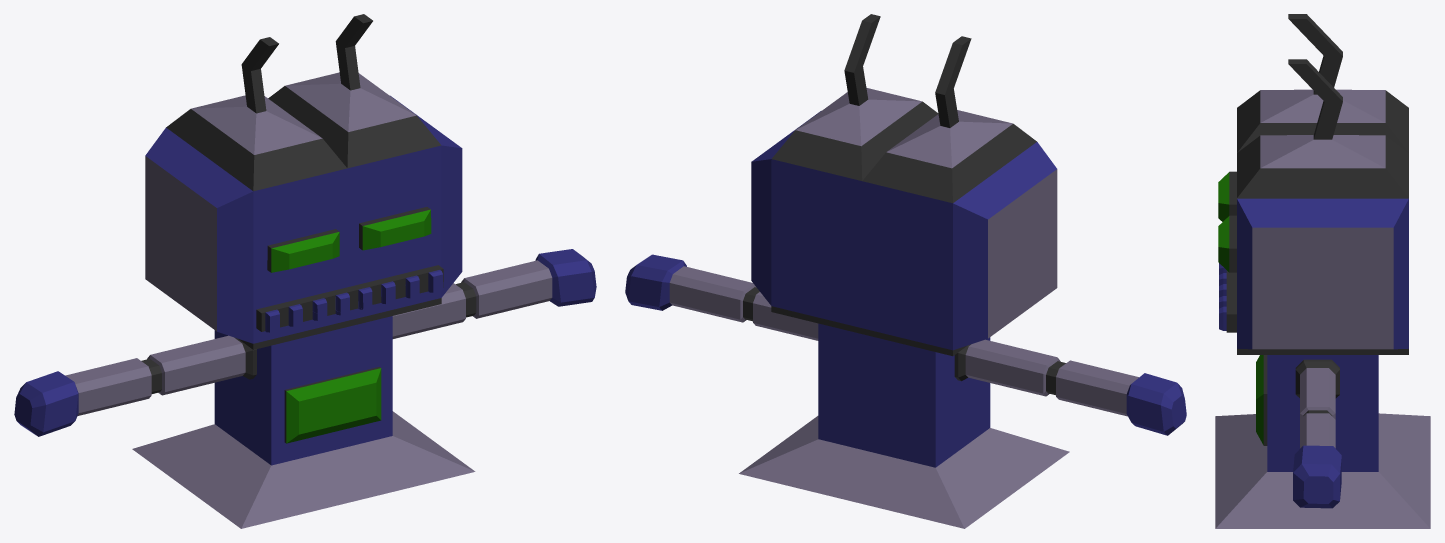
The model's file is Robot.fbx.
3 views of the same model, side by side, from view 1: azimuth 30°, elevation 25°; view 2: azimuth 150°, elevation 25°; view 3: azimuth 270°, elevation 25° (orthographic). The views are drawn at different scales.
Visible parts, largest first — view 1: \; view 2: \; view 3: \.
Part boxes in pixels (x1,y1,x2,y2): \: (14,14,596,528); \: (625,14,1186,528); \: (1215,14,1430,528).
Bounding box in the file's own units: 562 × 415 × 187.
